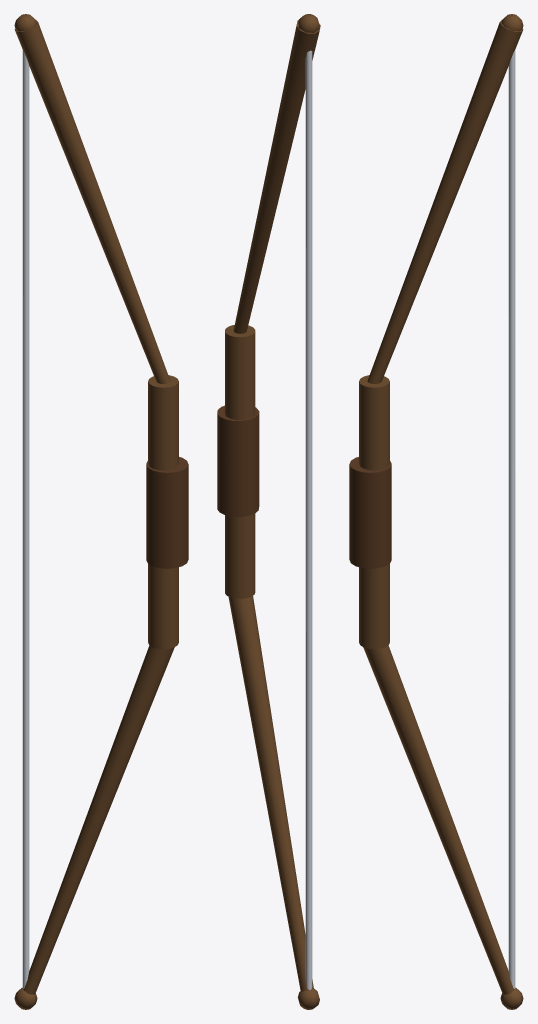
The model's file is bow.glb.
The picture shows the model from 3 angles, left to right: view 1: azimuth 90°, elevation 25°; view 2: azimuth 210°, elevation 25°; view 3: azimuth 270°, elevation 25°; orthographic projection.
Parts seen in each view (by area): view 1: limbUp, string, limbDn, riser, grip; view 2: limbDn, string, limbUp, riser, grip, nockDn, nockUp; view 3: limbUp, string, limbDn, riser, grip.
Part boxes in pixels (x1,y1,x2,y2): limbUp: (14, 20, 170, 383); string: (22, 50, 29, 988); limbDn: (23, 645, 174, 994); riser: (148, 375, 178, 649); grip: (146, 457, 188, 568); limbDn: (228, 596, 313, 991); string: (305, 50, 312, 989); limbUp: (233, 20, 320, 333); riser: (225, 325, 255, 598); grip: (217, 405, 259, 516); nockDn: (297, 988, 319, 1009); nockUp: (298, 14, 319, 32); limbUp: (367, 20, 523, 383); string: (508, 50, 515, 988); limbDn: (363, 645, 514, 994); riser: (359, 375, 389, 649); grip: (349, 457, 391, 568).
Size of the model in its own units: 0.044 by 1.14 by 0.181.
